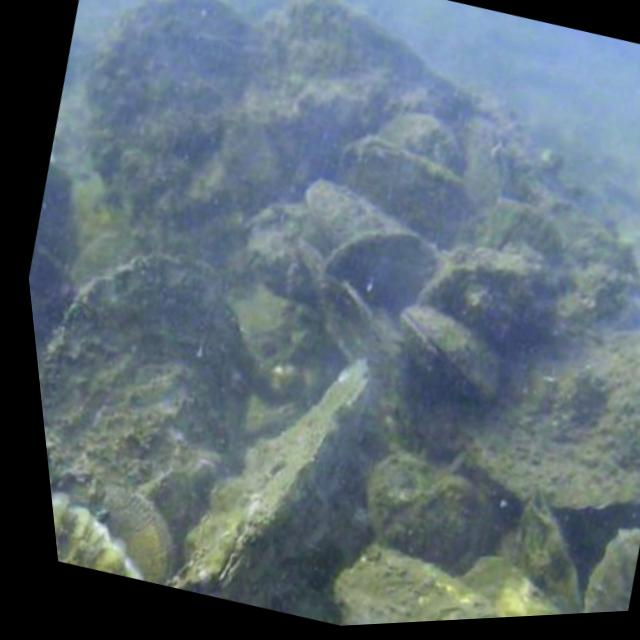Oyster-Closed: (336, 141, 478, 251), (491, 492, 583, 614), (399, 307, 505, 399), (457, 115, 510, 211)
Oyster-Indeterminate: (39, 257, 251, 579), (172, 359, 373, 618), (92, 0, 252, 233), (456, 404, 640, 508), (365, 449, 495, 571), (336, 547, 502, 625), (319, 235, 442, 306), (51, 491, 145, 579), (302, 178, 408, 241), (462, 554, 565, 617), (456, 201, 562, 261), (108, 498, 177, 584), (376, 112, 462, 178), (44, 429, 103, 515), (579, 531, 640, 613), (74, 234, 153, 283)
